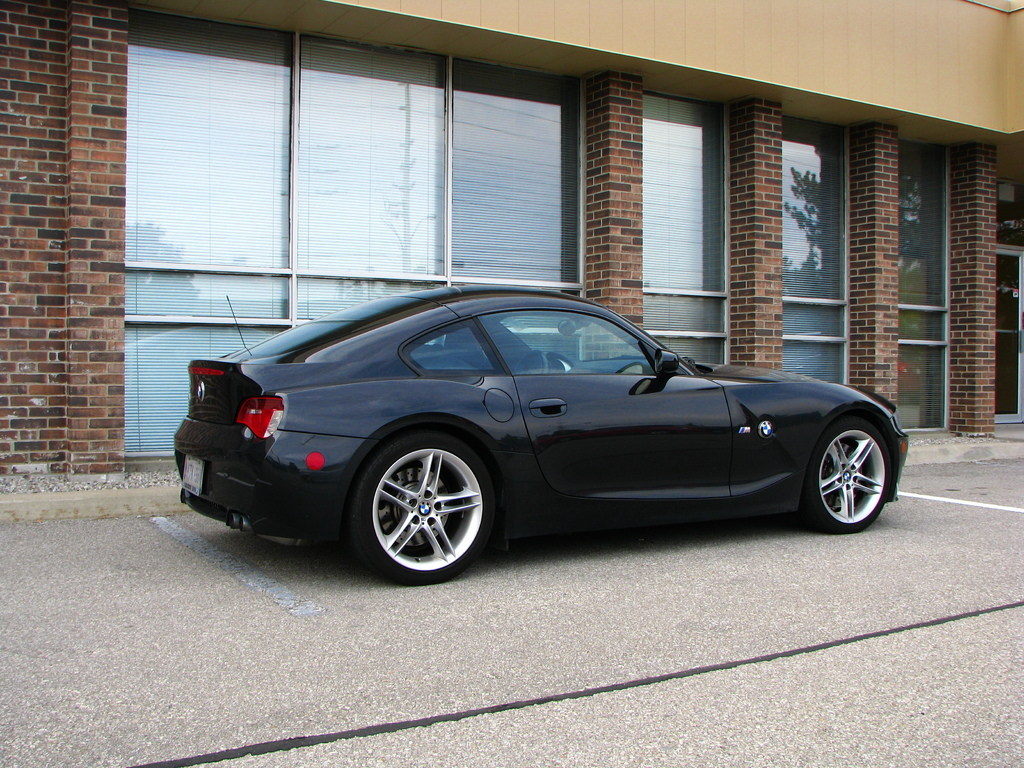Car: (167, 283, 913, 578)
